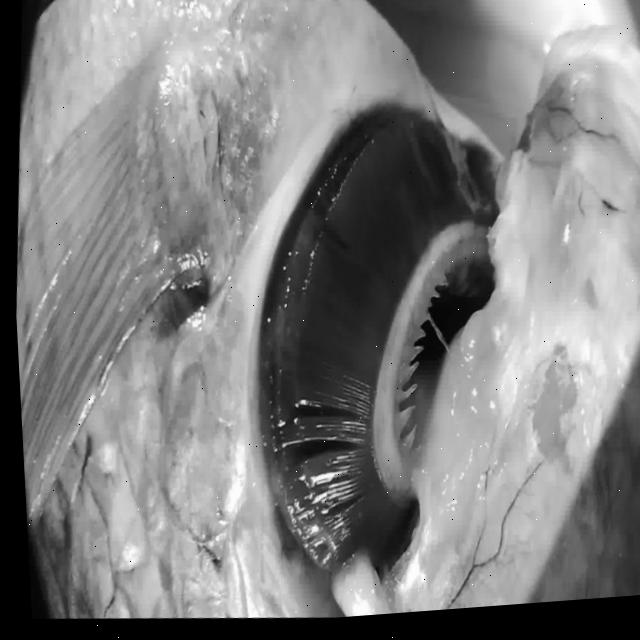Fresh: (202, 56, 573, 623)
